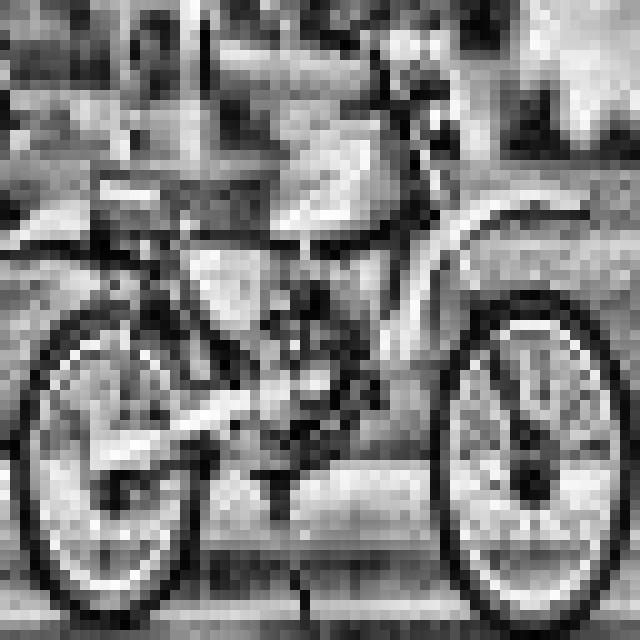mopeds: (23, 57, 640, 640)
